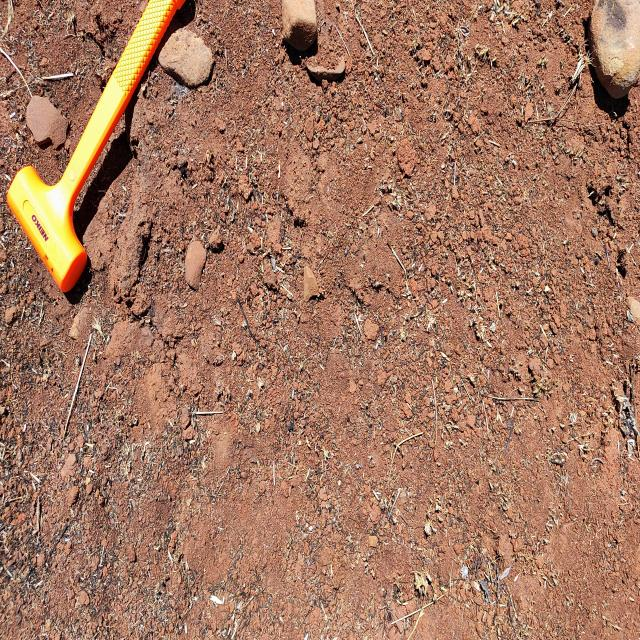Orange_hammer: (6, 0, 184, 294)
